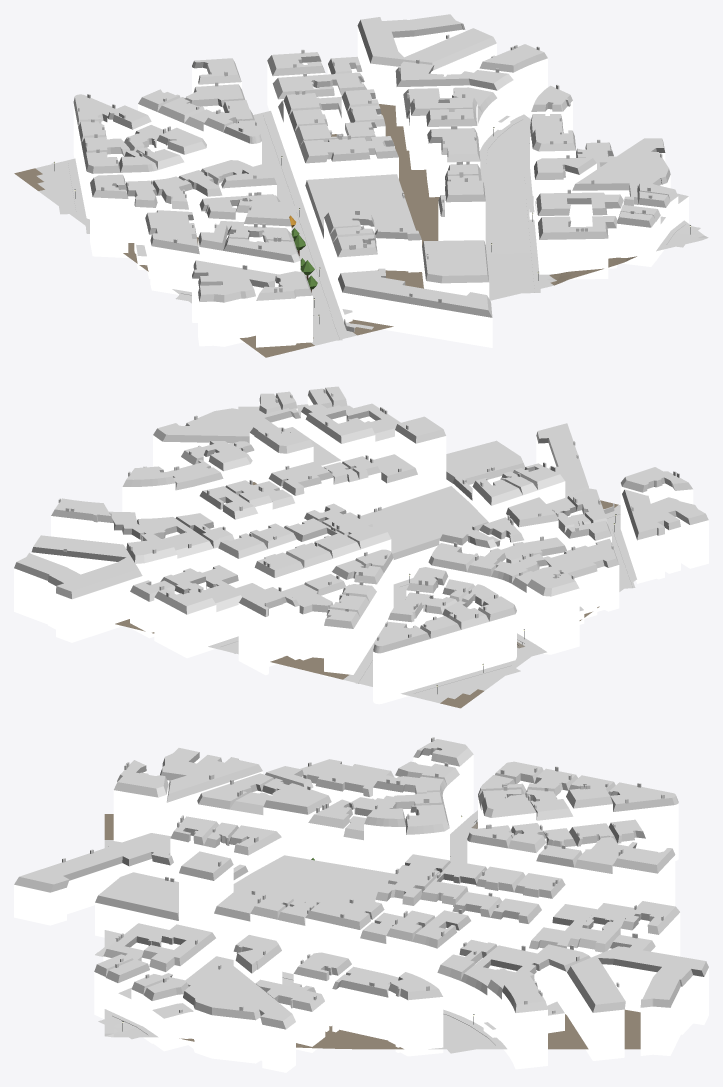
Rendered from zone_B6.glb.
3 views of the same model, one above another, from view 1: azimuth 30°, elevation 25°; view 2: azimuth 150°, elevation 25°; view 3: azimuth 270°, elevation 25° (orthographic). The views are drawn at different scales.
Parts seen in each view (by area): view 1: zone_B6_batiments, zone_B6_sol_NOCOL, zone_B6_terrain, zone_B6_decor_NOCOL; view 2: zone_B6_batiments, zone_B6_terrain, zone_B6_sol_NOCOL; view 3: zone_B6_batiments, zone_B6_terrain, zone_B6_sol_NOCOL.
Part boxes in pixels (left/top/right/bottom): zone_B6_batiments: left=73, top=14, right=688, bottom=352; zone_B6_sol_NOCOL: left=51, top=114, right=700, bottom=341; zone_B6_terrain: left=14, top=104, right=708, bottom=357; zone_B6_decor_NOCOL: left=54, top=127, right=690, bottom=323; zone_B6_batiments: left=14, top=386, right=708, bottom=704; zone_B6_terrain: left=115, top=482, right=636, bottom=708; zone_B6_sol_NOCOL: left=219, top=512, right=635, bottom=699; zone_B6_batiments: left=14, top=737, right=708, bottom=1072; zone_B6_terrain: left=104, top=814, right=640, bottom=1049; zone_B6_sol_NOCOL: left=95, top=810, right=501, bottom=1053.
Bounding box in the file's own units: 219 × 34.39 × 235.
